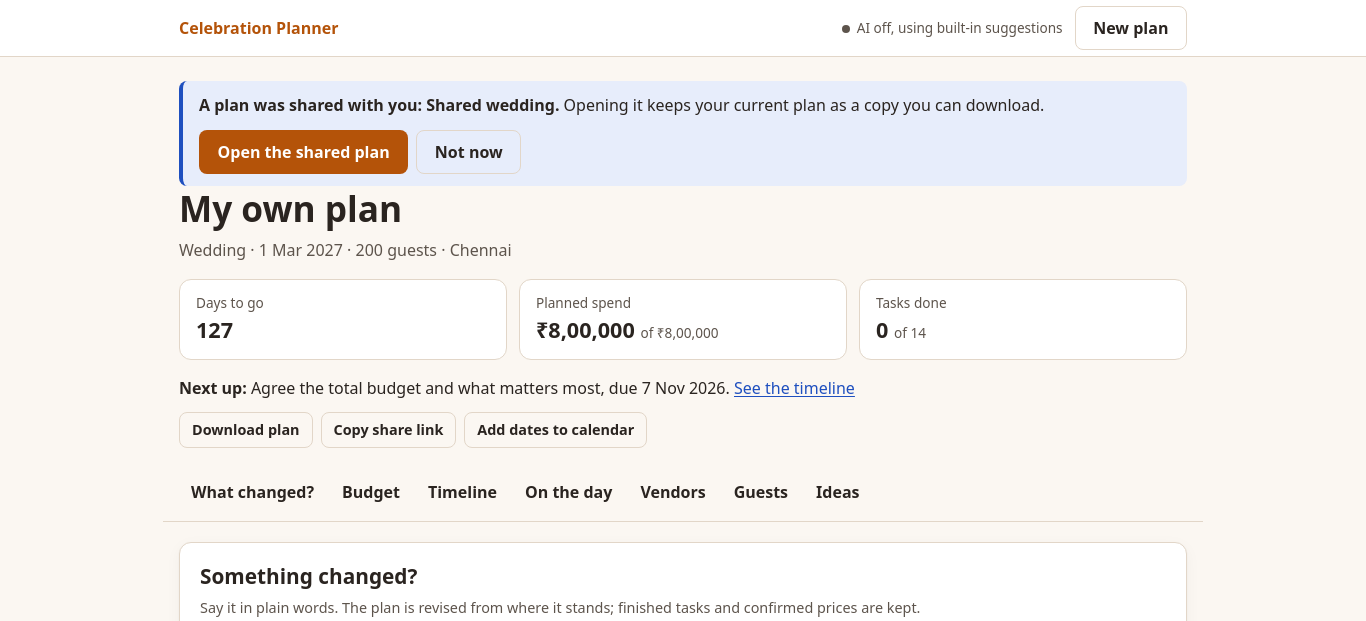
Scenario: a shared plan link › keeps the current plan as a copy rather than replacing it
Check: the text "keeps your current plan as a copy" is shown, box [564,94,1044,116]
Click the button "Open the shared plan". click: point(304, 152)
box: [199,130,408,174]
(page scrolled)
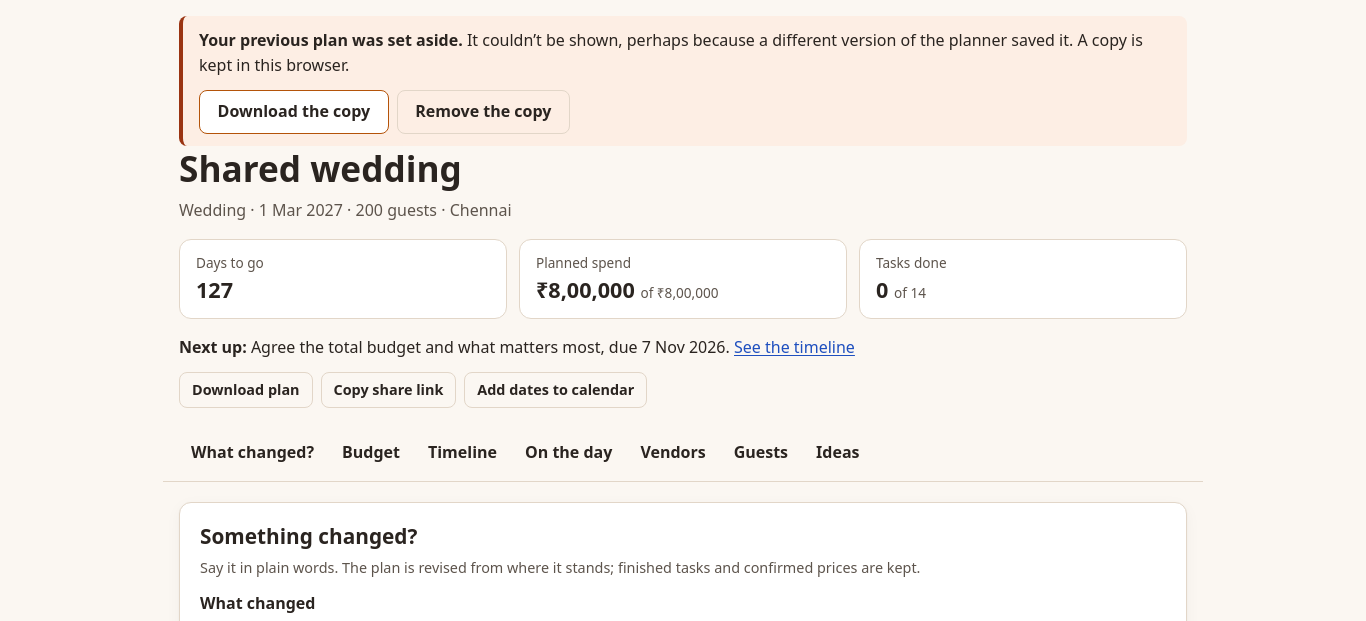
Check: the heading "Shared wedding" is shown, box [179,144,462,192]
Check: the text "Your previous plan was set aside." is shown, box [199,29,463,51]
